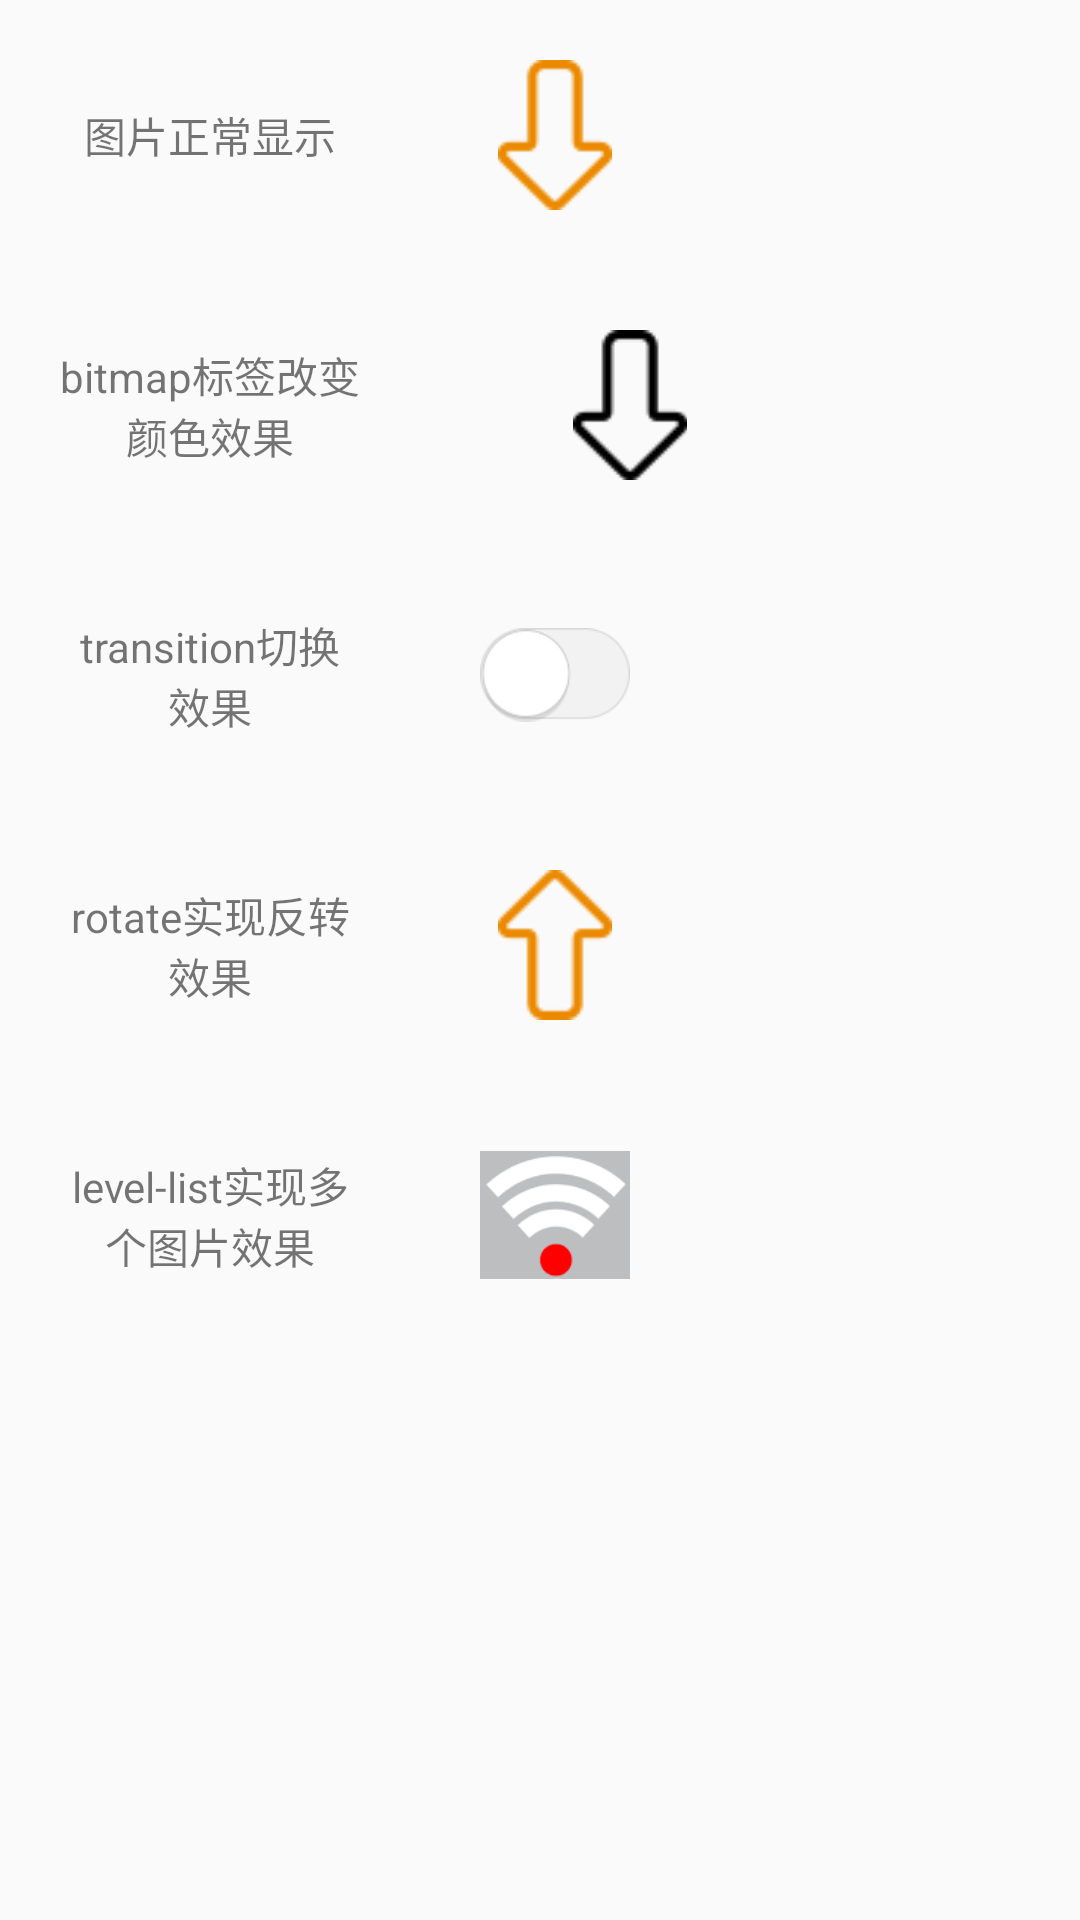

Locate icon controls on the screen. Image size 1080*1920, boxes as (x1, y1, x2, y2).
arrow down: (498, 60, 612, 210)
level list wifi: (480, 1151, 630, 1279)
rotate arrow: (498, 870, 612, 1020)
transition toggle: (480, 628, 630, 722)
